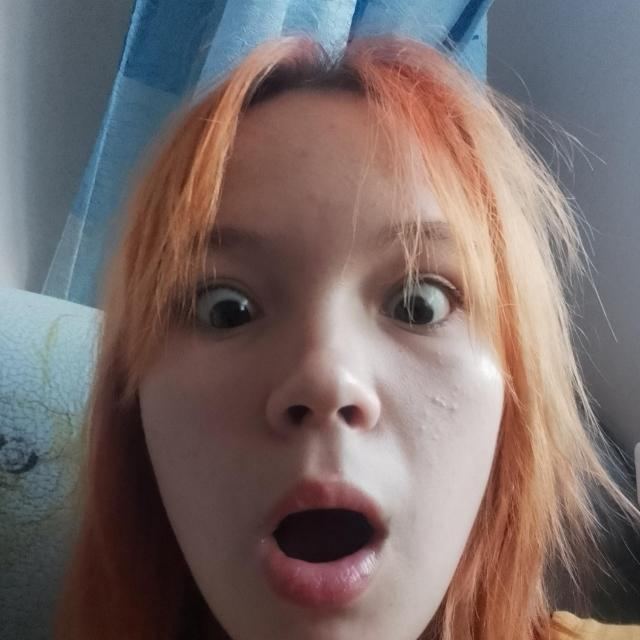Surprised: (99, 106, 539, 640)
